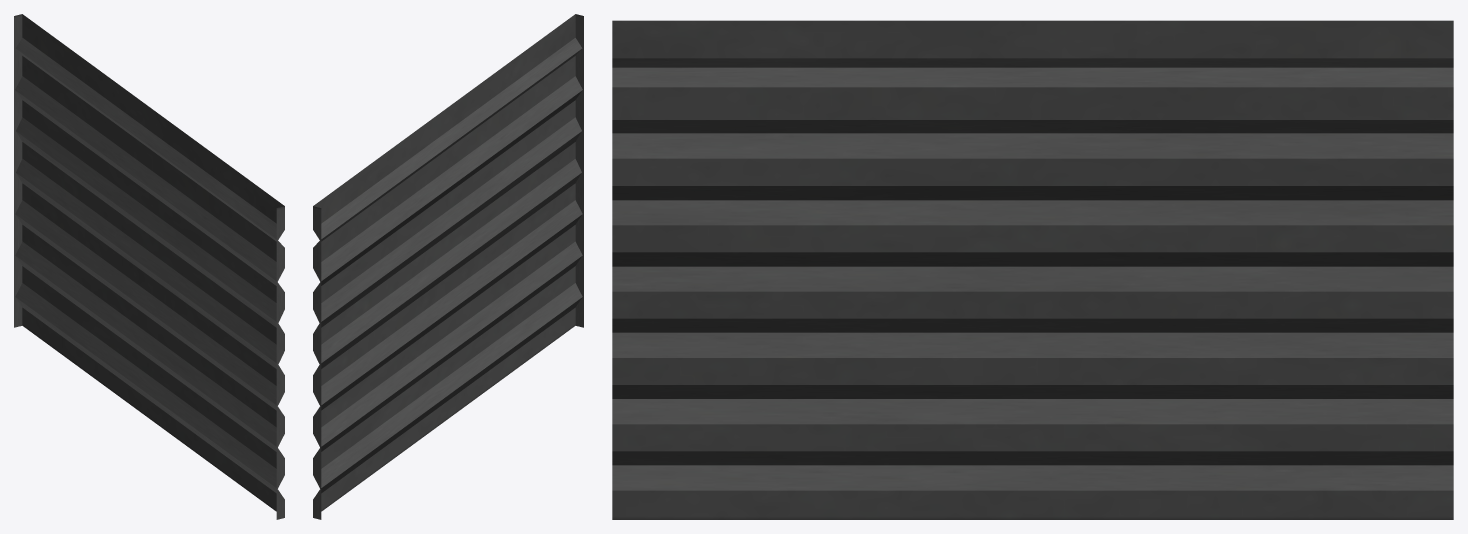
The model's file is Puerta.obj.
3 views of the same model, side by side, from view 1: azimuth 30°, elevation 25°; view 2: azimuth 150°, elevation 25°; view 3: azimuth 270°, elevation 25° (orthographic). The views are drawn at different scales.
Parts seen in each view (by area): view 1: Puerta_Cube.007; view 2: Puerta_Cube.007; view 3: Puerta_Cube.007.
Boxes of the visible parts, x1,y1,x2,y2 form: Puerta_Cube.007: (14, 14, 284, 519); Puerta_Cube.007: (313, 14, 583, 519); Puerta_Cube.007: (612, 20, 1453, 519).
Bounding box in the file's own units: 0.0955 × 3.38 × 5.16.
